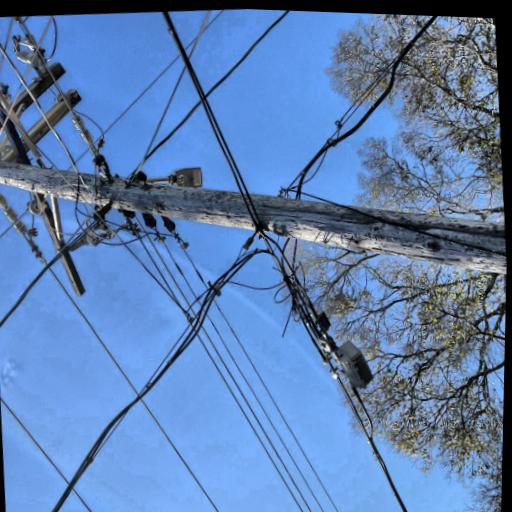pole: (32, 85, 253, 512)
